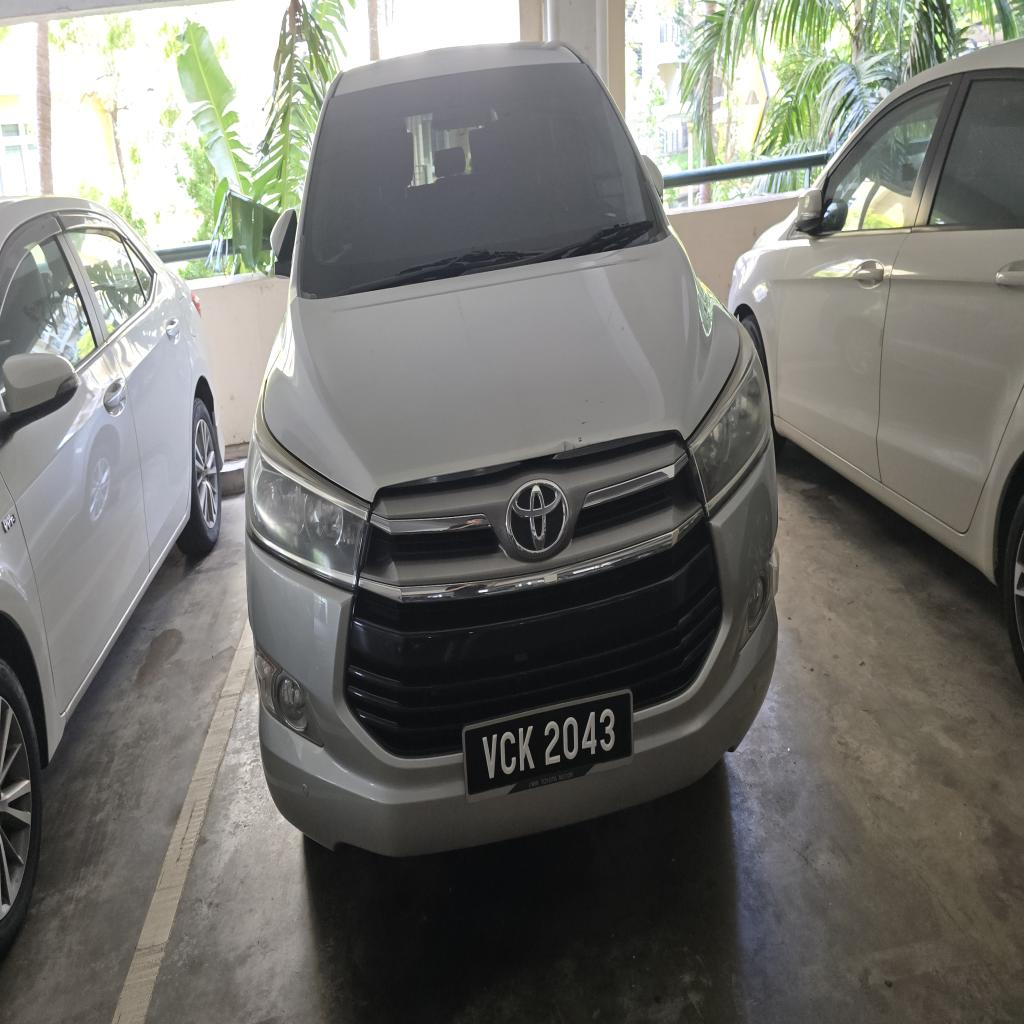car: (247, 45, 777, 854)
car plate: (463, 691, 632, 799)
